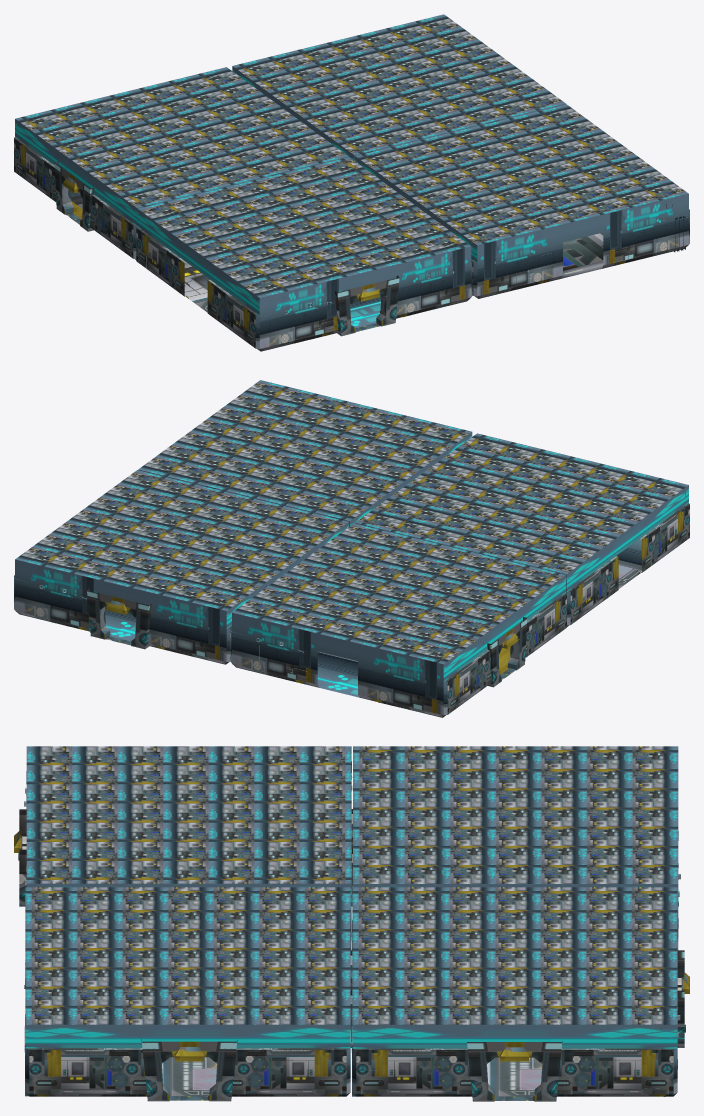
The model's file is Combined_Mesh_root_scene__9_f65a131e__ZombiesII_laboratory_09_d_715a74b3_c1f257_part002.obj.
3 views of the same model, one above another, from view 1: azimuth 30°, elevation 25°; view 2: azimuth 150°, elevation 25°; view 3: azimuth 270°, elevation 25° (orthographic). The views are drawn at different scales.
Size of the model in its own units: 83.99 by 10.21 by 83.14.
Materials: 233 (233 with a texture image).
